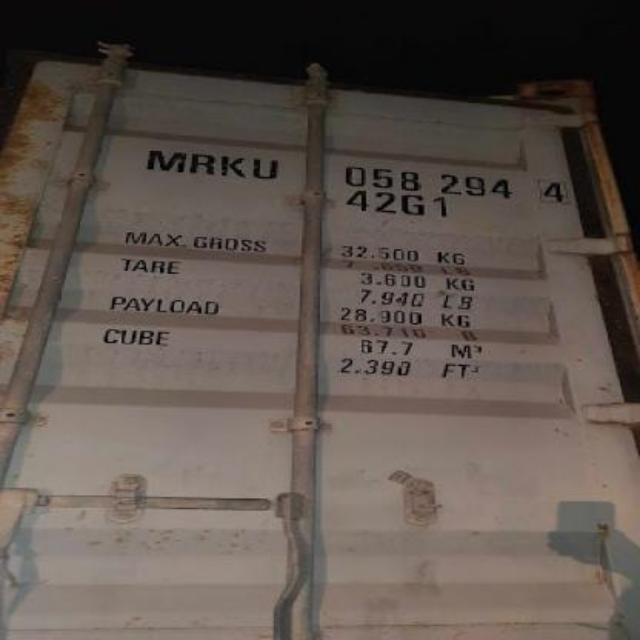0: (340, 166, 368, 187)
2: (434, 172, 460, 194)
4: (538, 180, 570, 203), (492, 175, 518, 201)
5: (370, 166, 394, 190)
8: (400, 168, 424, 192)
9: (464, 176, 488, 198)
K: (218, 157, 244, 177)
M: (143, 148, 190, 176)
R: (190, 154, 216, 176)
U: (254, 157, 278, 183)
